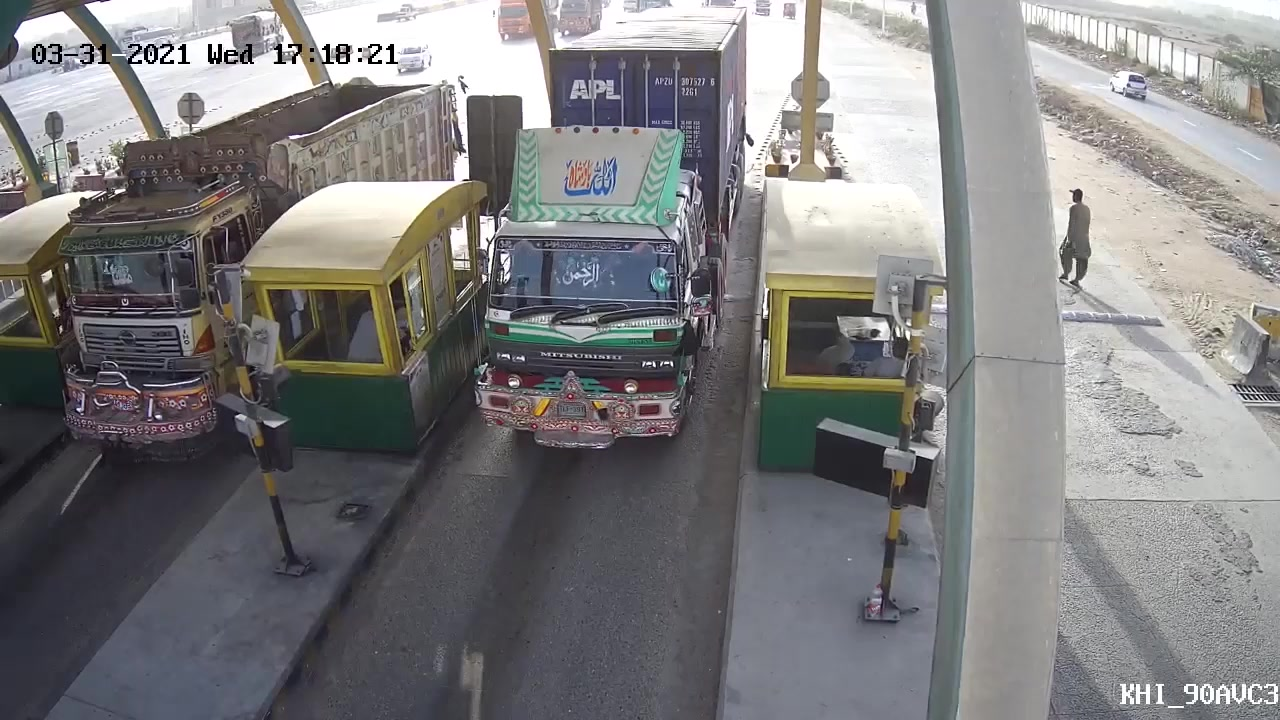F6: (473, 43, 743, 470)
